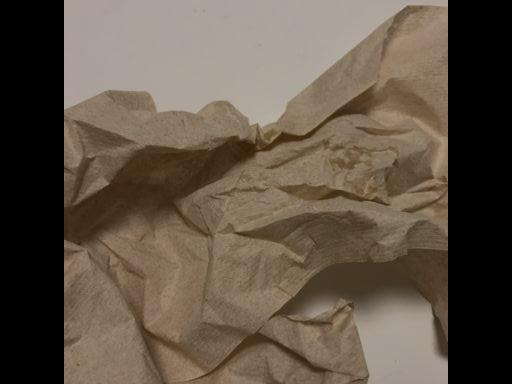trash: (67, 7, 447, 382)
